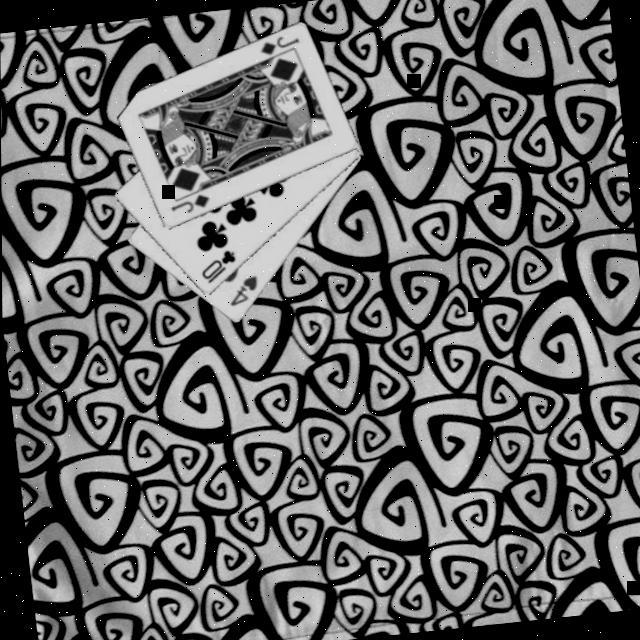10C: (196, 246, 242, 288)
4H: (224, 272, 263, 310)
JD: (166, 190, 214, 219), (256, 31, 304, 60)
